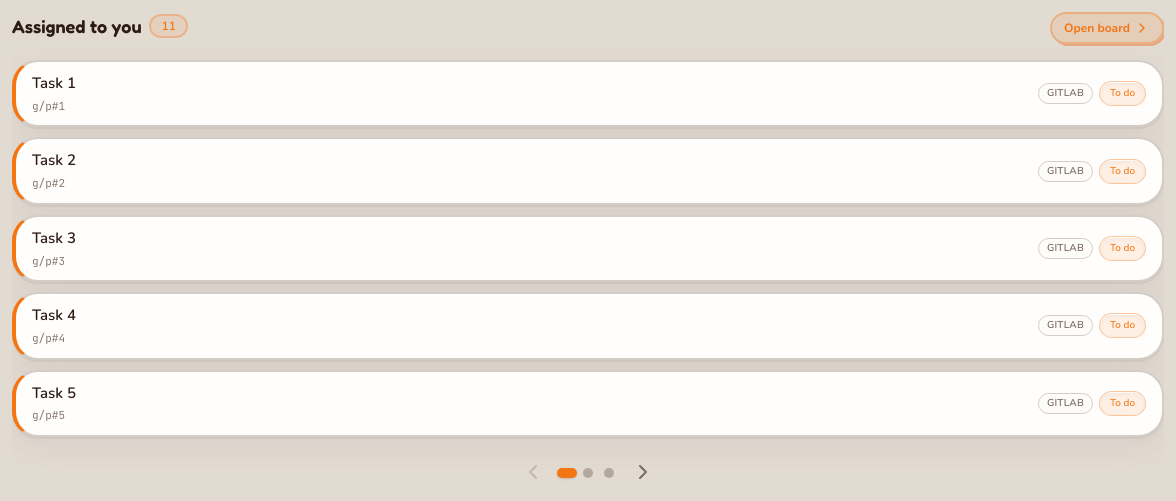
Test: HomeAssignedIssuesSection › pager chevrons step pages and disable at the first and last page
Expected: the button with test id "home-assigned-issues-pager-prev" is disabled, [521, 460, 545, 484]
Expected: the text "Task 1" is shown, [32, 74, 76, 93]
What coordinates should you click on to do the following:
click the button with test id "home-assigned-issues-pager-next"
I would click on:
 (643, 472)
Its box is [631, 460, 655, 484].
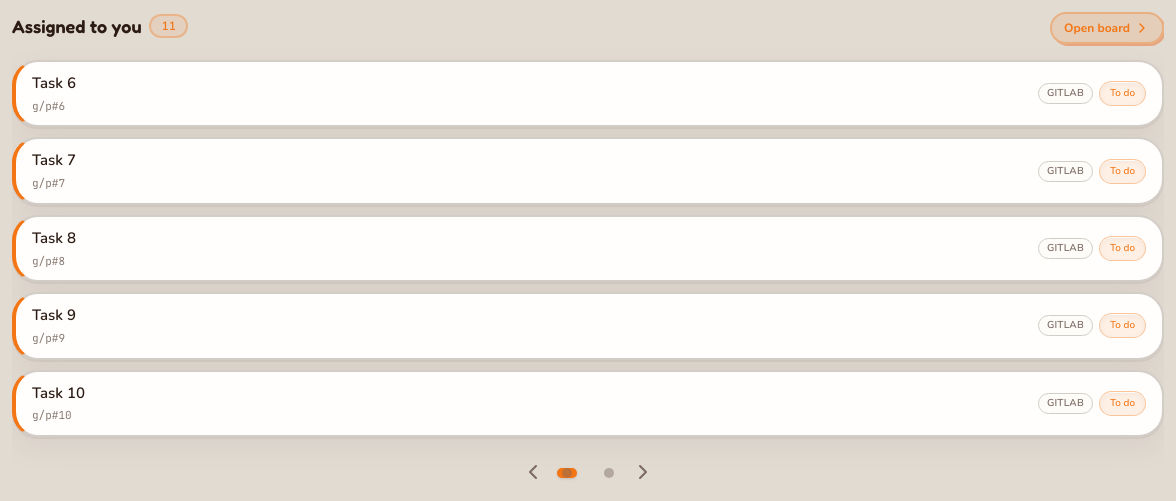
Now the text "Task 6" is shown, box [32, 74, 76, 93]
Now the button with test id "home-assigned-issues-pager-prev" is enabled, box [521, 460, 545, 484]
What coordinates should you click on to do the following:
click the button with test id "home-assigned-issues-pager-next"
I would click on:
 (643, 472)
Its box is [631, 460, 655, 484].
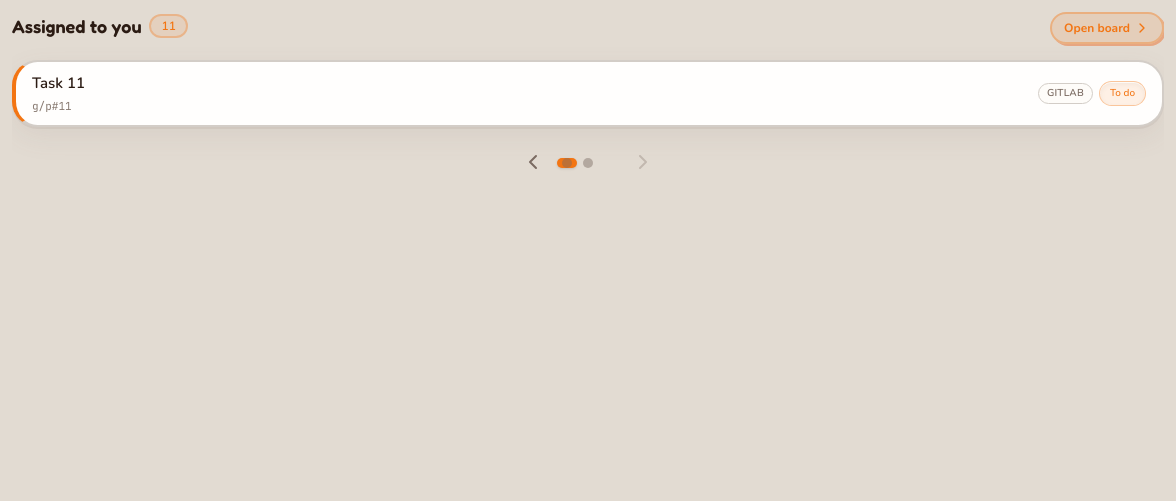
Now the text "Task 11" is shown, box [32, 74, 85, 93]
Now the button with test id "home-assigned-issues-pager-next" is disabled, box [631, 150, 655, 174]
What coordinates should you click on to do the following:
click the button with test id "home-assigned-issues-pager-prev"
I would click on:
 (533, 162)
Its box is [521, 150, 545, 174].
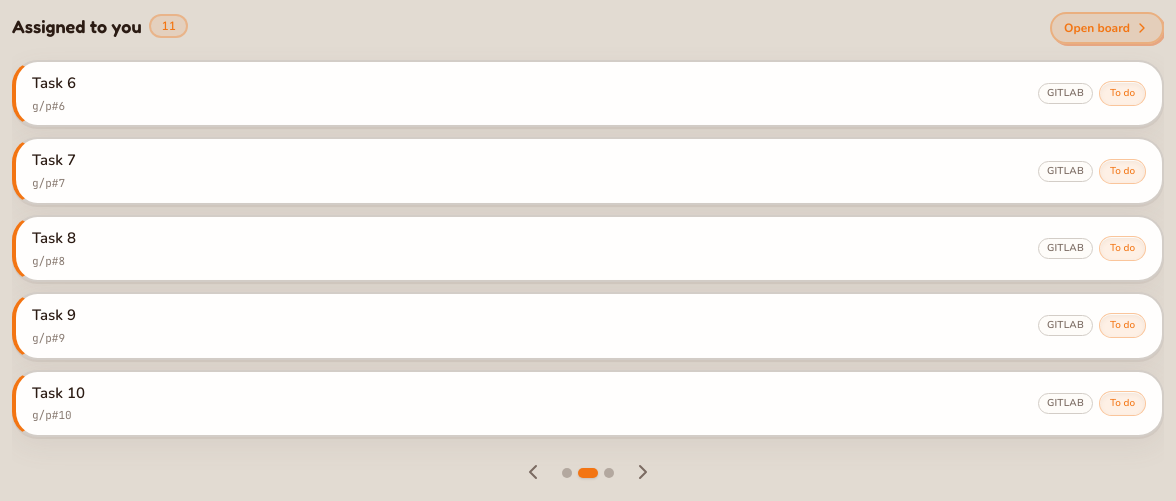
Now the text "Task 6" is shown, box [32, 74, 76, 93]
Now the button with test id "home-assigned-issues-pager-next" is enabled, box [631, 460, 655, 484]
